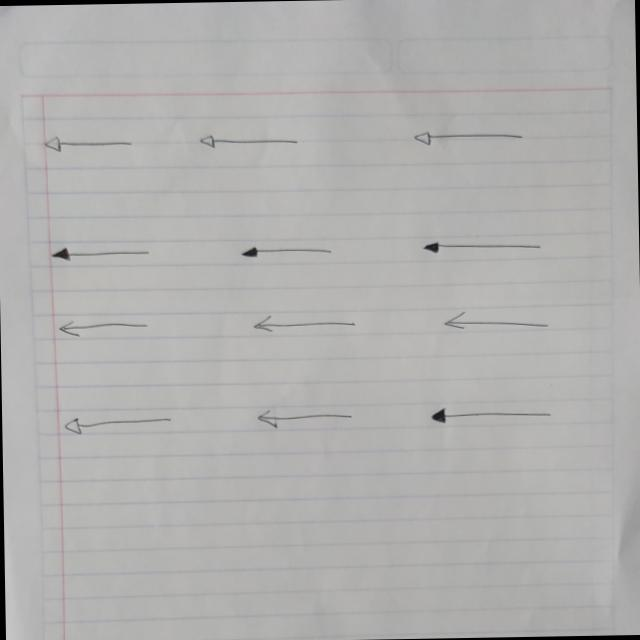arrow_line_left: (252, 312, 361, 338), (443, 307, 552, 332), (61, 413, 174, 437), (429, 404, 550, 426), (255, 406, 352, 432), (421, 236, 544, 255), (56, 316, 152, 340), (198, 132, 300, 154), (412, 128, 524, 148), (238, 242, 335, 262), (40, 134, 134, 154), (48, 245, 154, 262)
